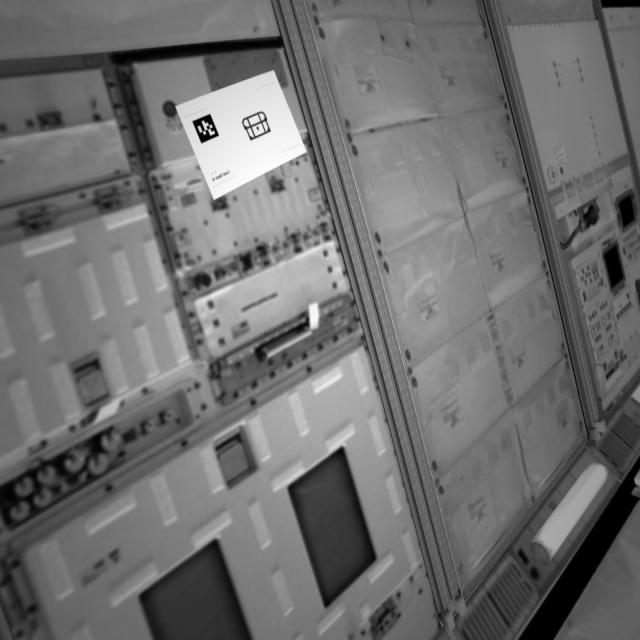treasure_box: (239, 103, 275, 147)
